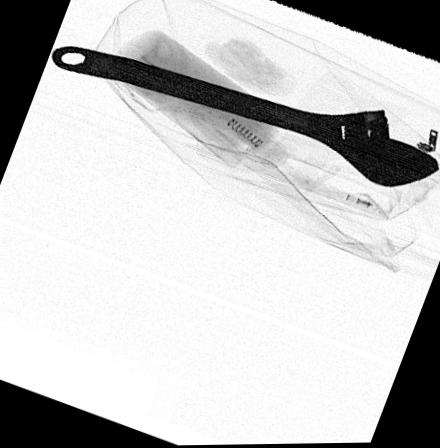Wrench: (51, 42, 440, 191)
